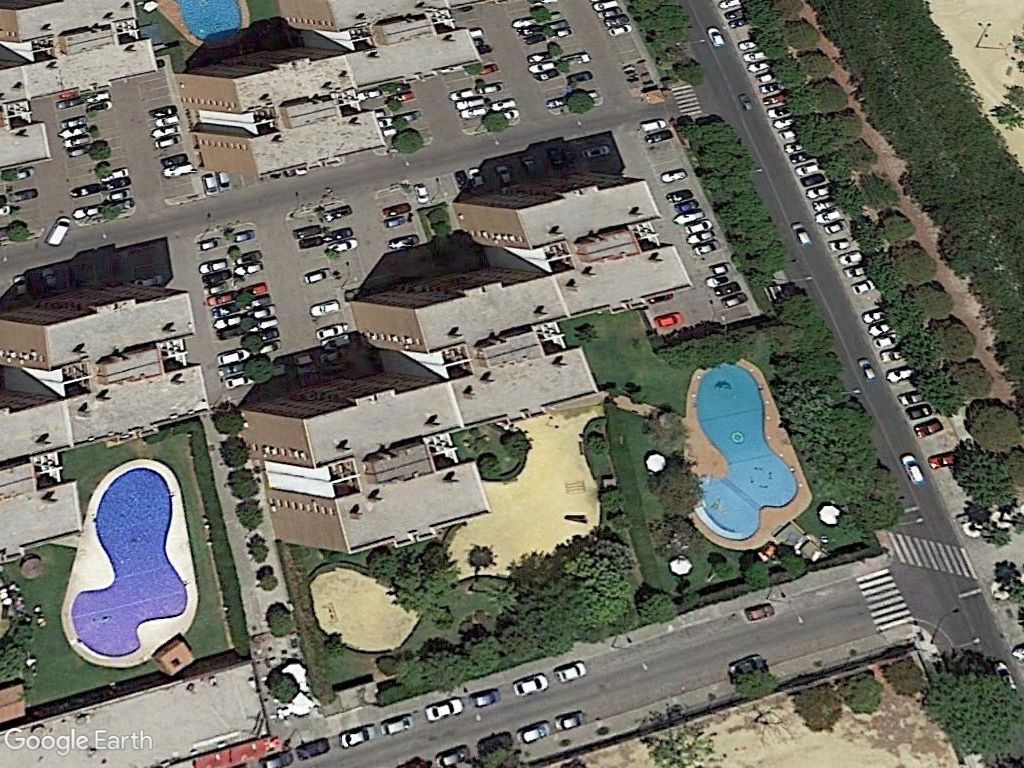car: (418, 697, 468, 723), (335, 722, 378, 749), (510, 673, 552, 698), (552, 660, 589, 684), (310, 322, 352, 340)
